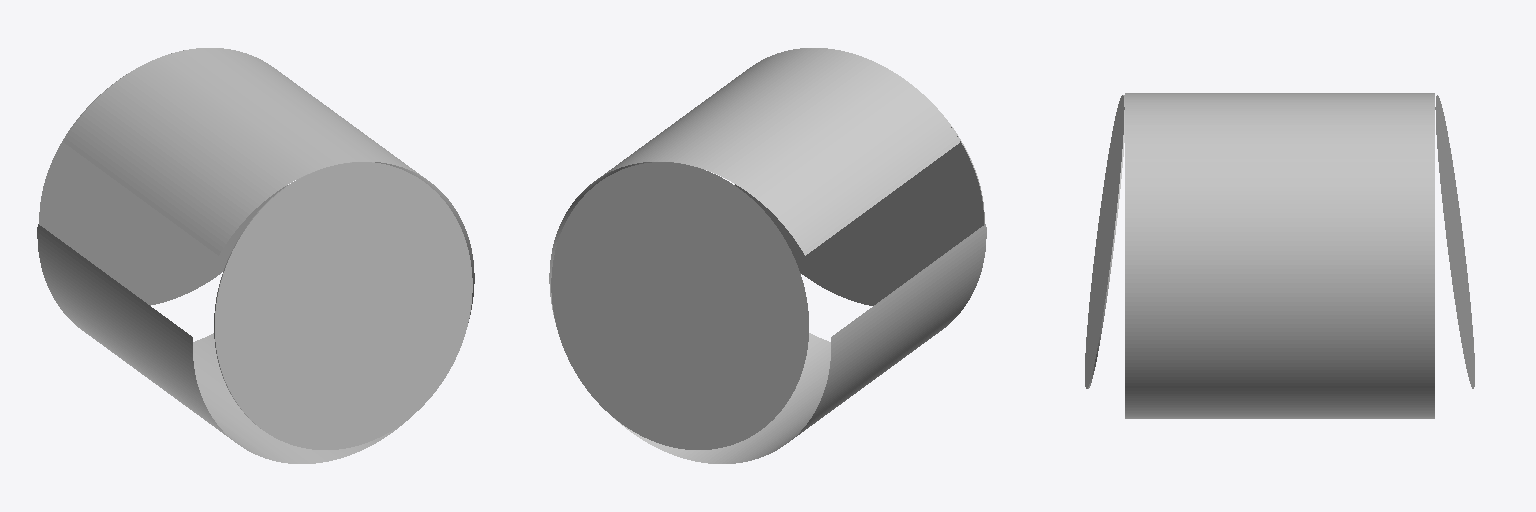
Rendered from plane bend82.obj.
3 views of the same model, side by side, from view 1: azimuth 30°, elevation 25°; view 2: azimuth 150°, elevation 25°; view 3: azimuth 270°, elevation 25° (orthographic).
Parts seen in each view (by area): view 1: Circle, Plane, Circle.001; view 2: Circle.001, Plane, Circle; view 3: Plane, Circle, Circle.001.
Boxes of the visible parts, <box> form: Circle: <box>214,162,472,449</box>; Plane: <box>37,48,474,463</box>; Circle.001: <box>39,50,287,305</box>; Circle.001: <box>551,162,808,449</box>; Plane: <box>549,48,986,463</box>; Circle: <box>735,50,984,305</box>; Plane: <box>1125,93,1434,418</box>; Circle: <box>1085,95,1124,388</box>; Circle.001: <box>1435,95,1474,388</box>.
Bounding box in the file's own units: 2.09 × 2.09 × 2.51.